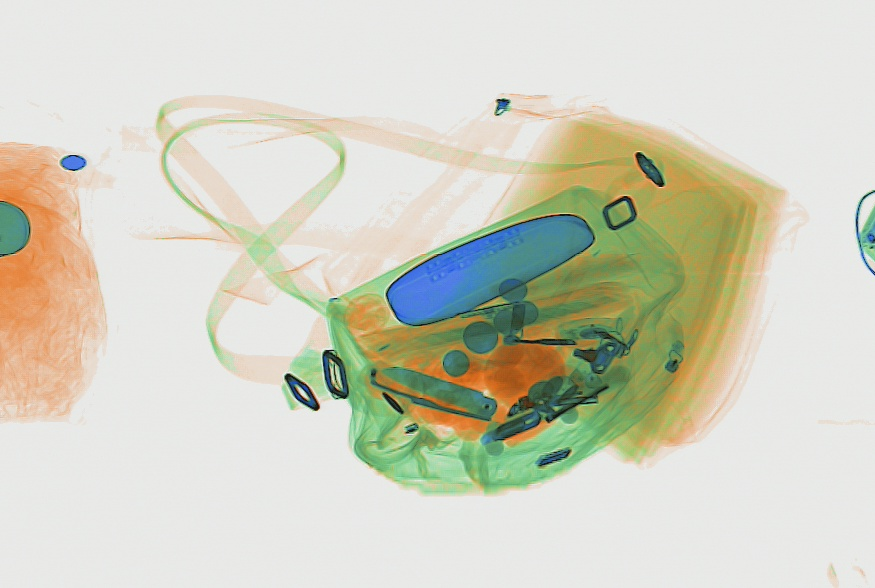knife: (355, 357, 499, 421)
